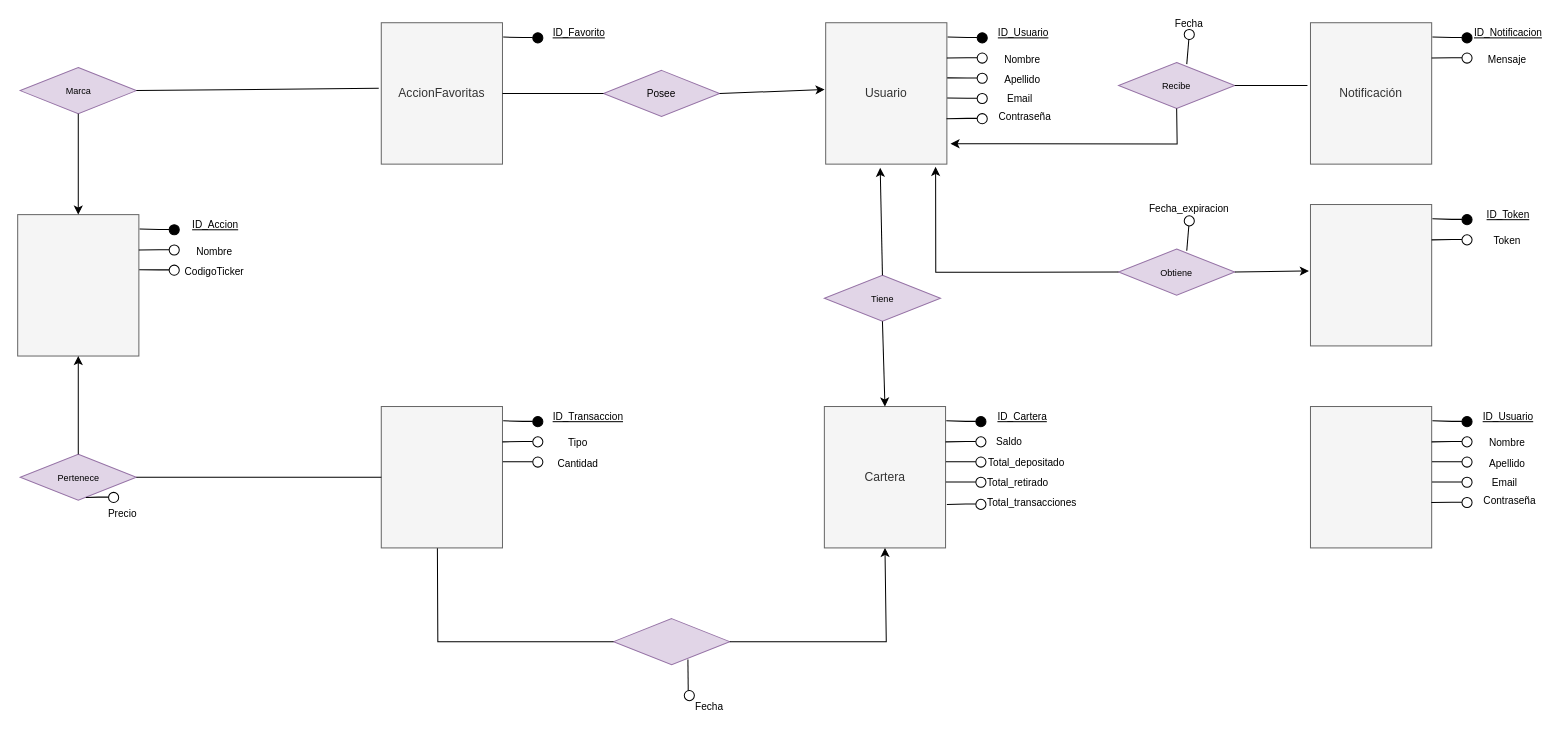
Some shapes in this 1560 by 729 pixel diagram are drawn without their labels. Here are the shapes that lost their labels. From the top down, the centre of each, then its label:
(78,285): Accion
(1370,275): ResetClaveToken
(441,477): Transaccion
(1370,477): ArticulosAprendizaje
(671,641): Realiza
